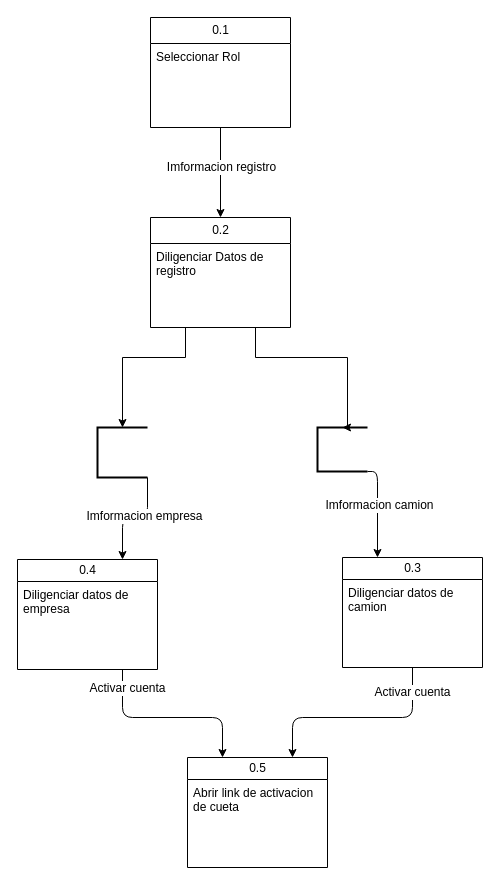
Image size: 500x885. Some labels were removed from this diagram. The shapes that lost their labels are listed below. From the top down, each one's centre as x and y in pixels, then its label:
At (x=122, y=452): "Comprador".
At (x=342, y=449): "Transportador".
